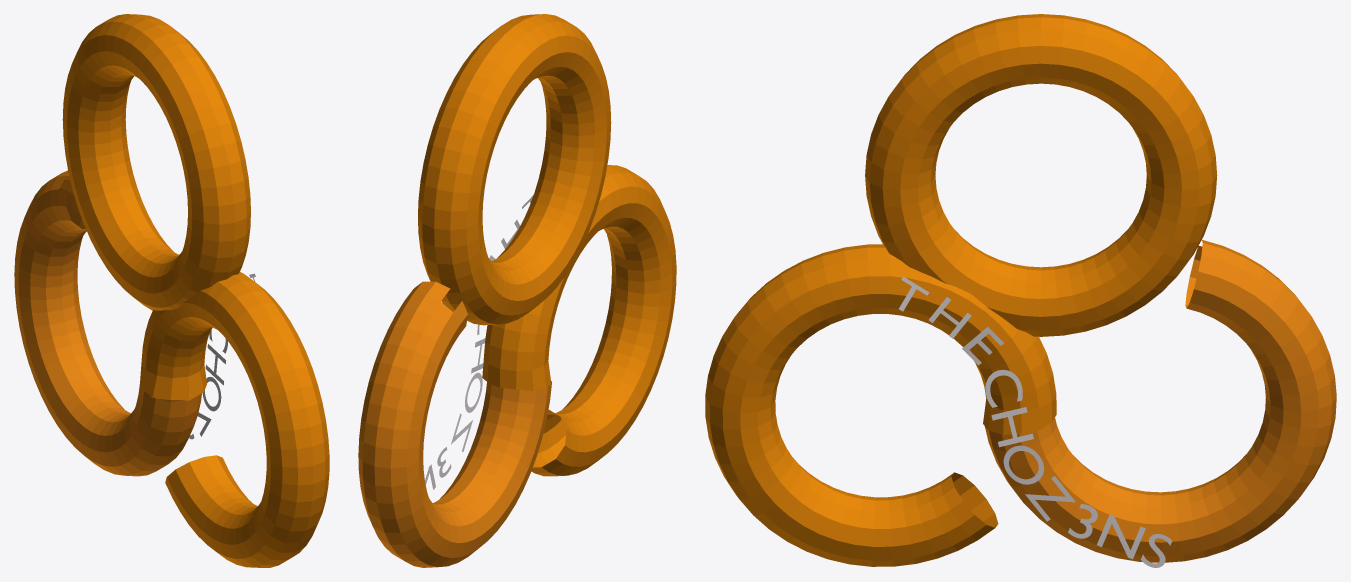
Rendered from thechoz3ns_model.gltf.
3 views of the same model, side by side, from view 1: azimuth 30°, elevation 25°; view 2: azimuth 150°, elevation 25°; view 3: azimuth 270°, elevation 25° (orthographic). The views are drawn at different scales.
Visible parts, largest first — view 1: Torus, Torus.003, Torus.002; view 2: Torus, Torus.002, Torus.003, OZ; view 3: Torus, Torus.003, Torus.002, 3NS, OZ, CH.
Part boxes in pixels (x1,y1,x2,y2): Torus: (62,14,250,310); Torus.003: (140,272,329,567); Torus.002: (14,170,201,476); Torus: (418,14,611,325); Torus.002: (358,281,551,567); Torus.003: (482,165,676,476); OZ: (451,372,482,451); Torus: (865,14,1217,336); Torus.003: (705,244,1056,566); Torus.002: (984,240,1336,562); 3NS: (1068,504,1172,567); OZ: (1003,445,1075,521); CH: (985,369,1033,447).
Size of the model in its own units: 1.27 by 4.21 by 4.45.
